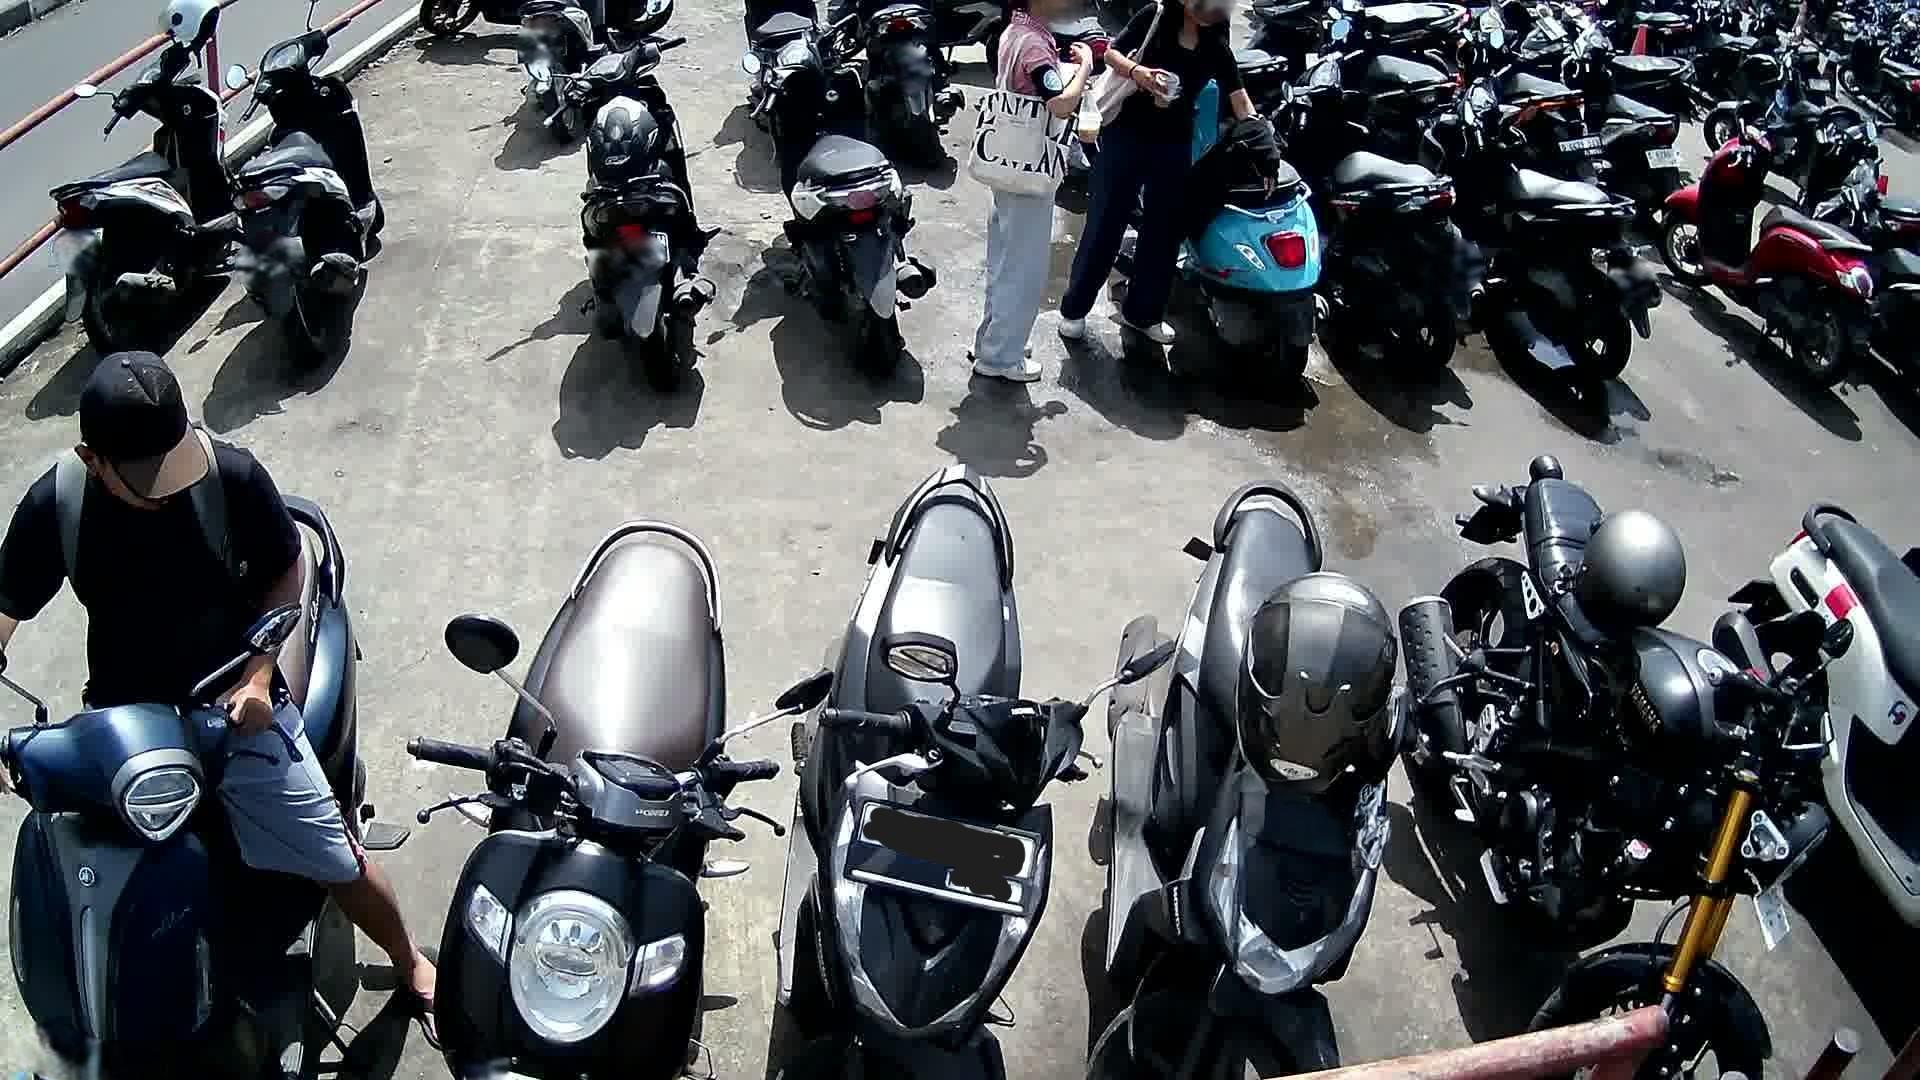motorcycle: (1395, 459, 1833, 1080), (766, 464, 1176, 1080), (407, 524, 835, 1080), (15, 498, 413, 1080), (1095, 476, 1477, 1080), (1717, 501, 1920, 943), (1414, 69, 1667, 388), (746, 11, 943, 386), (1271, 46, 1486, 372), (534, 33, 721, 398), (42, 34, 239, 357), (1662, 117, 1876, 398), (227, 16, 386, 368), (1176, 90, 1337, 385)
